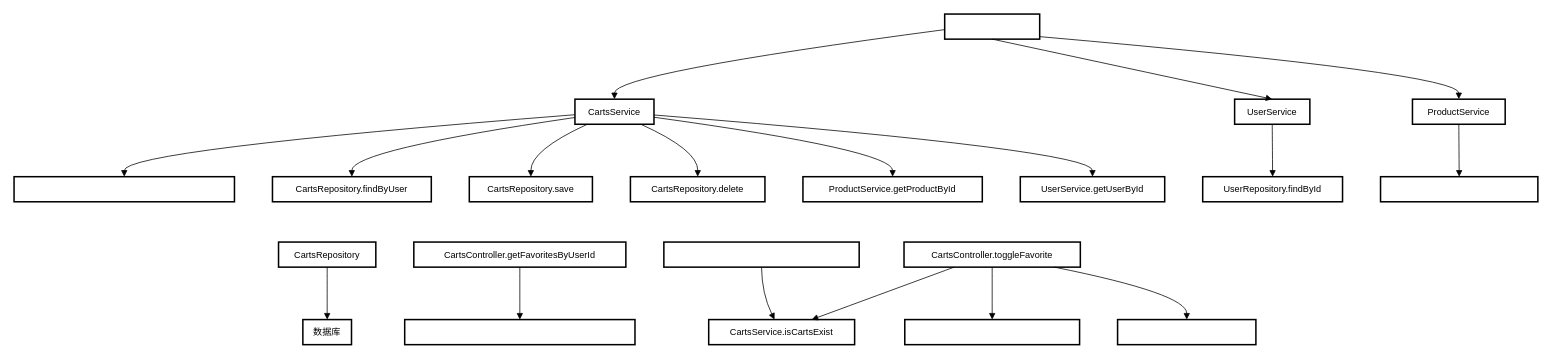
This 1551x358 diagram has some shape labels left out. Each missing label, with the centre of its shape:
"CartsController" goes at point 992,26.
"CartsController.checkIfCartsExists" goes at point 761,254.
"CartsRepository.findByUserAndProduct" goes at point 124,189.
"CartsService.addToCart" goes at point 1186,331.
"CartsService.getFavoriteProductsByUser" goes at point 519,331.
"CartsService.removeFromCart" goes at point 992,331.
"ProductRepository.findById" goes at point 1458,189.
